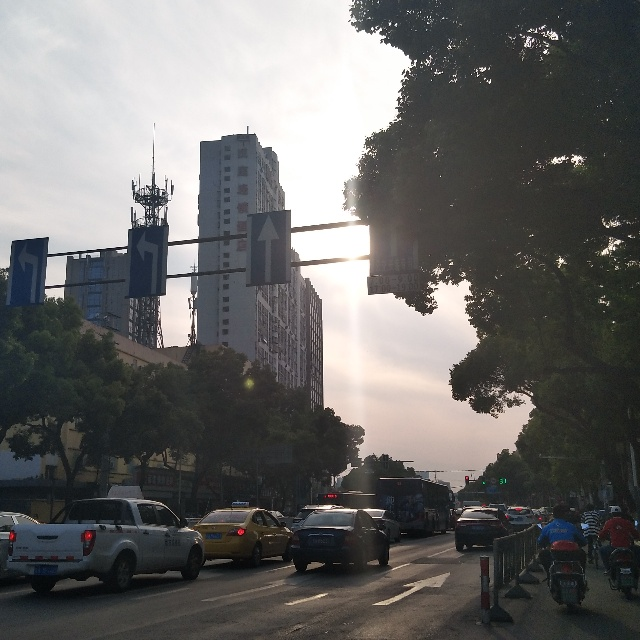left: (134, 226, 165, 299), (13, 242, 48, 306)
straight: (249, 209, 294, 283)
